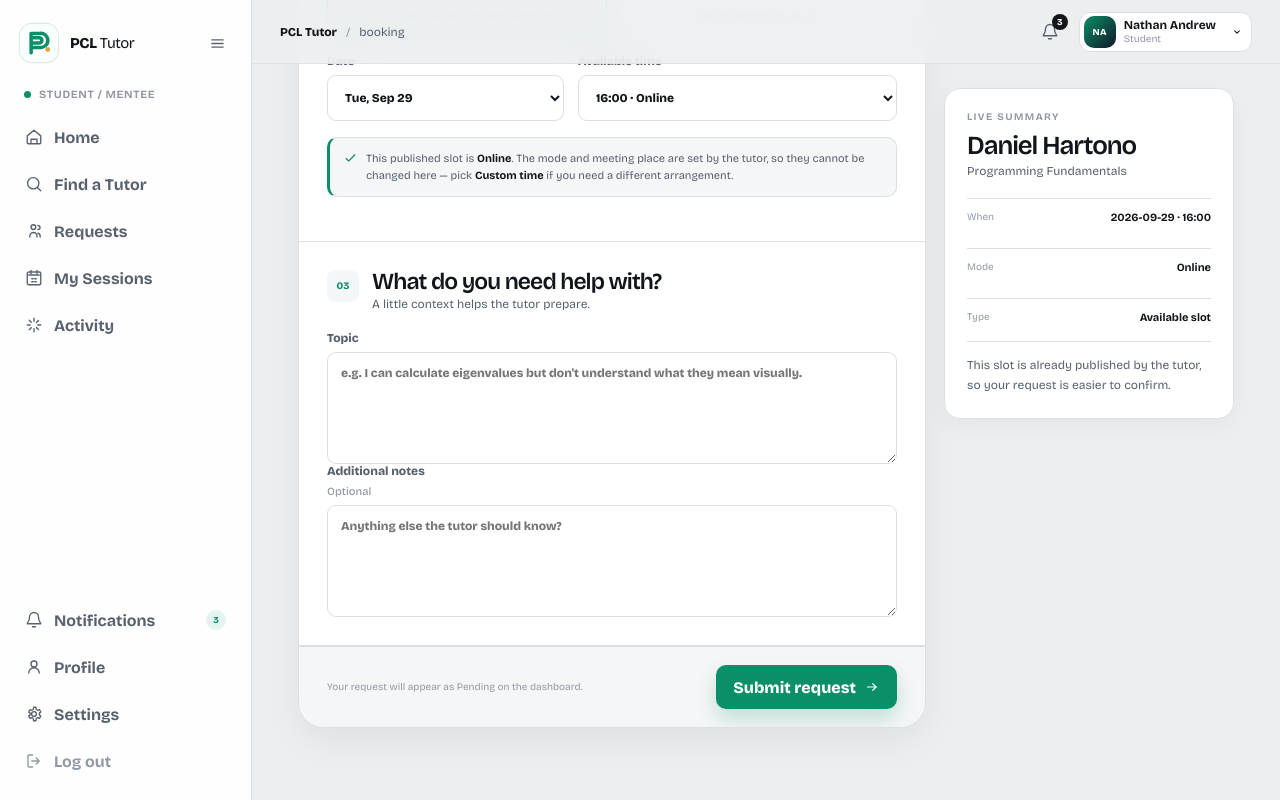
booking a published slot › lets the student edit the topic after cancelling the review
(page scrolled)
Step 1. Type "Wrong topic" into the text box labelled "Topic" → (612, 408), box [327,352,897,464]
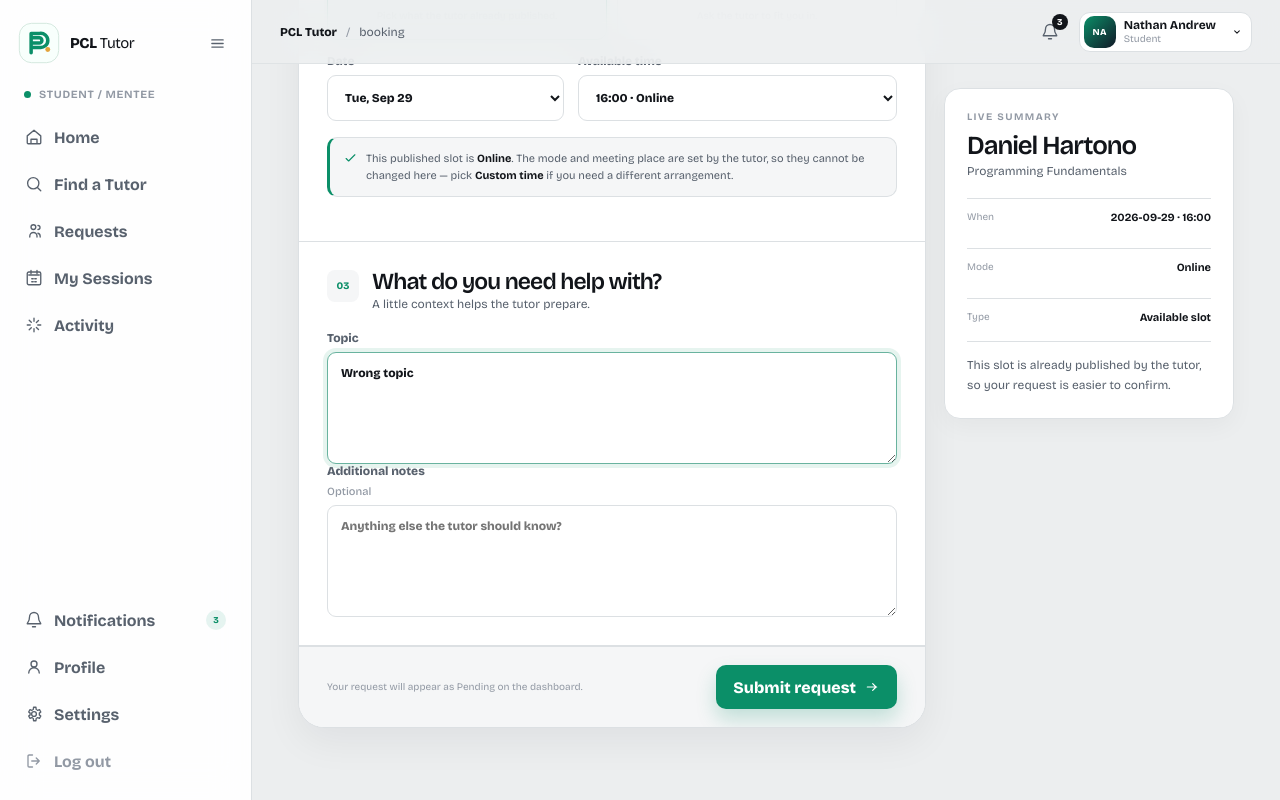
Step 2. Click the button "Submit request" → (807, 687), box [716,665,897,709]
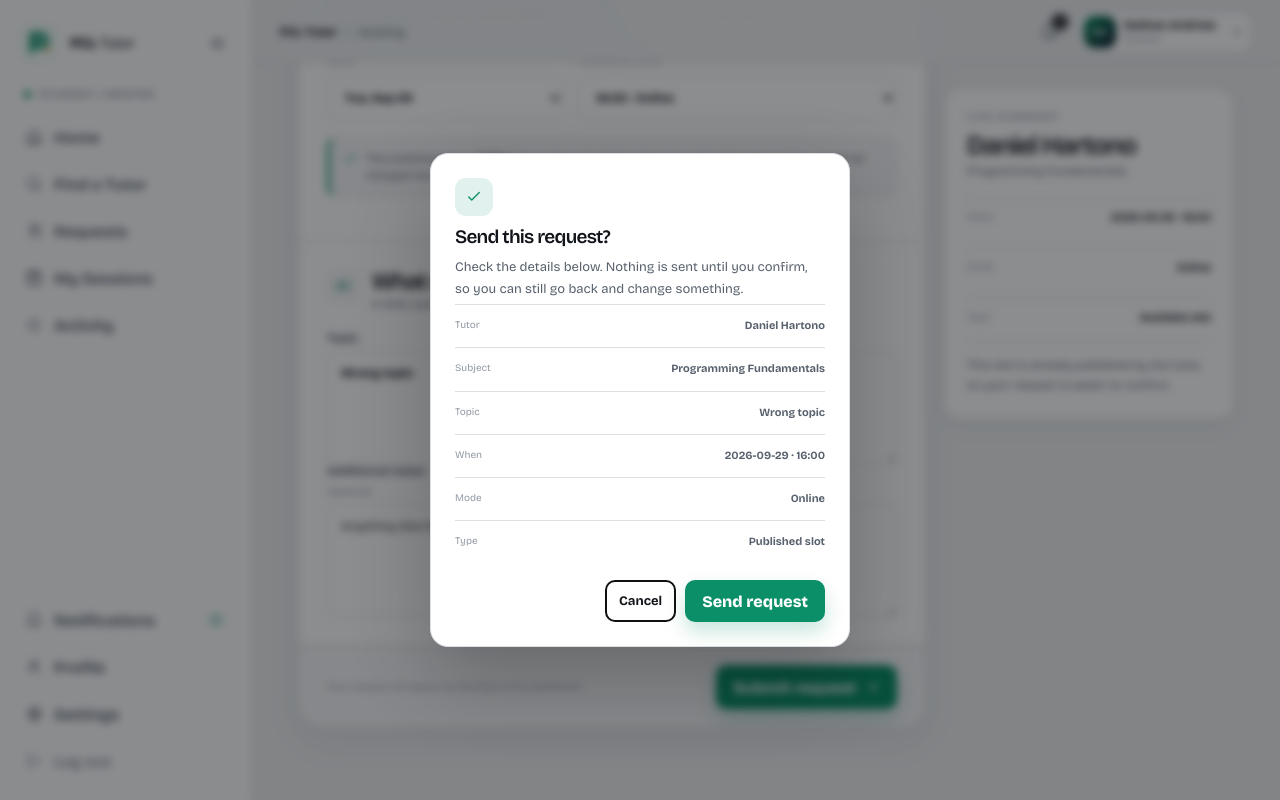
Step 3. Click the button "Cancel" → (641, 601), box [605,580,676,622]
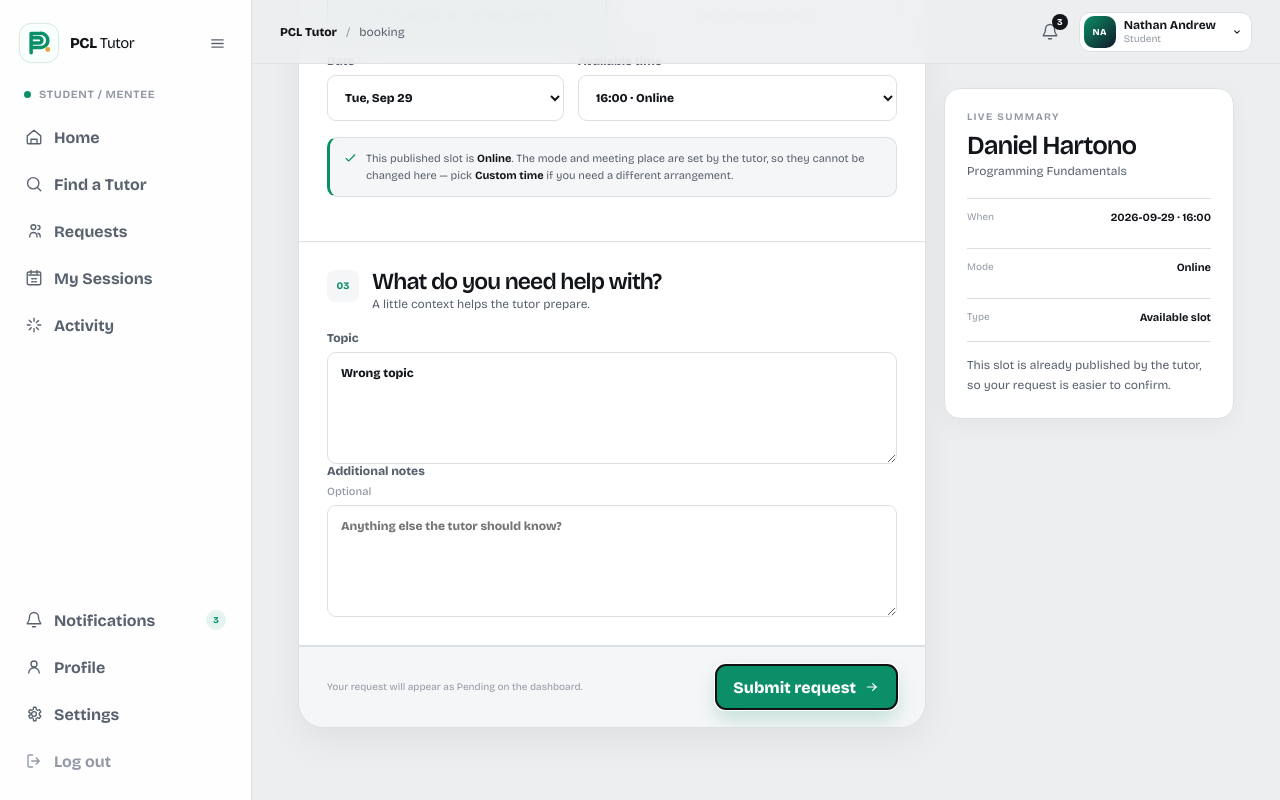
Step 4. Replace the text in the text box labelled "Topic" with "Corrected topic" → (612, 408), box [327,352,897,464]
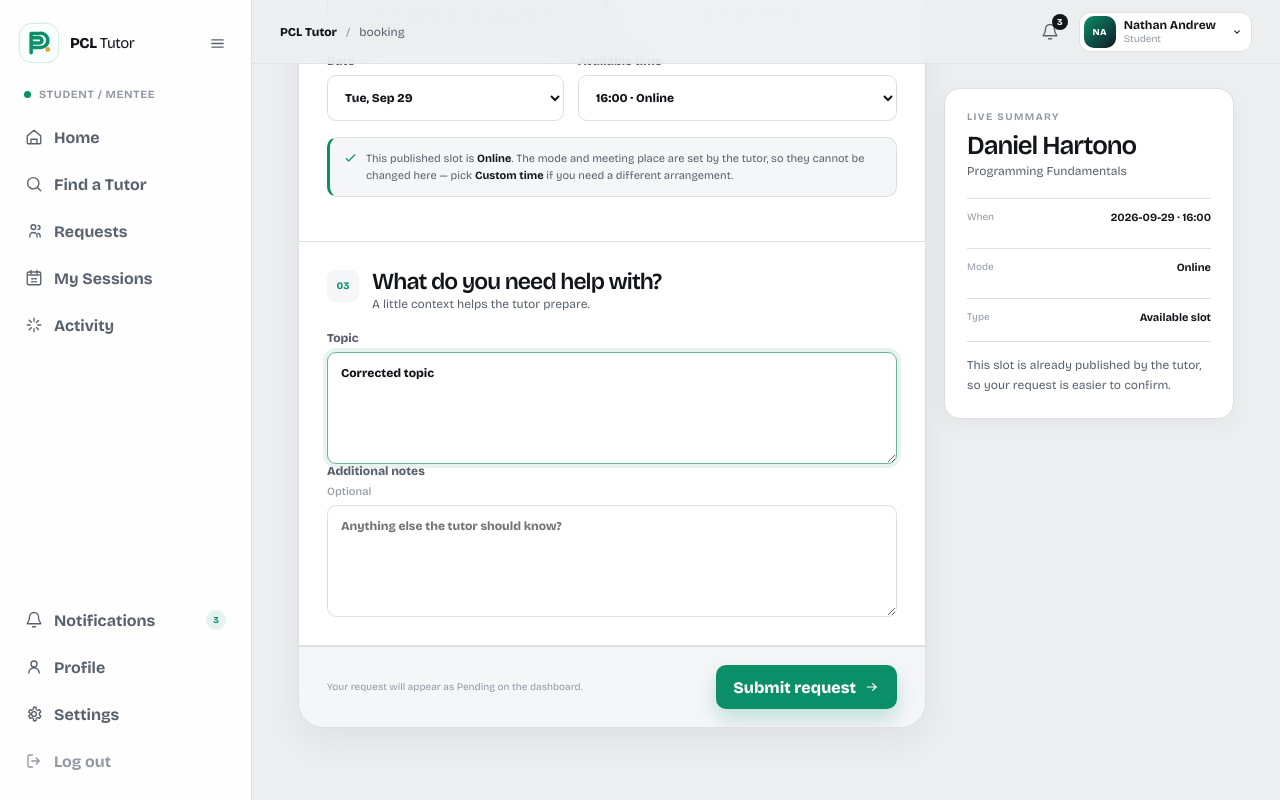
Step 5. Click the button "Submit request" → (807, 687), box [716,665,897,709]
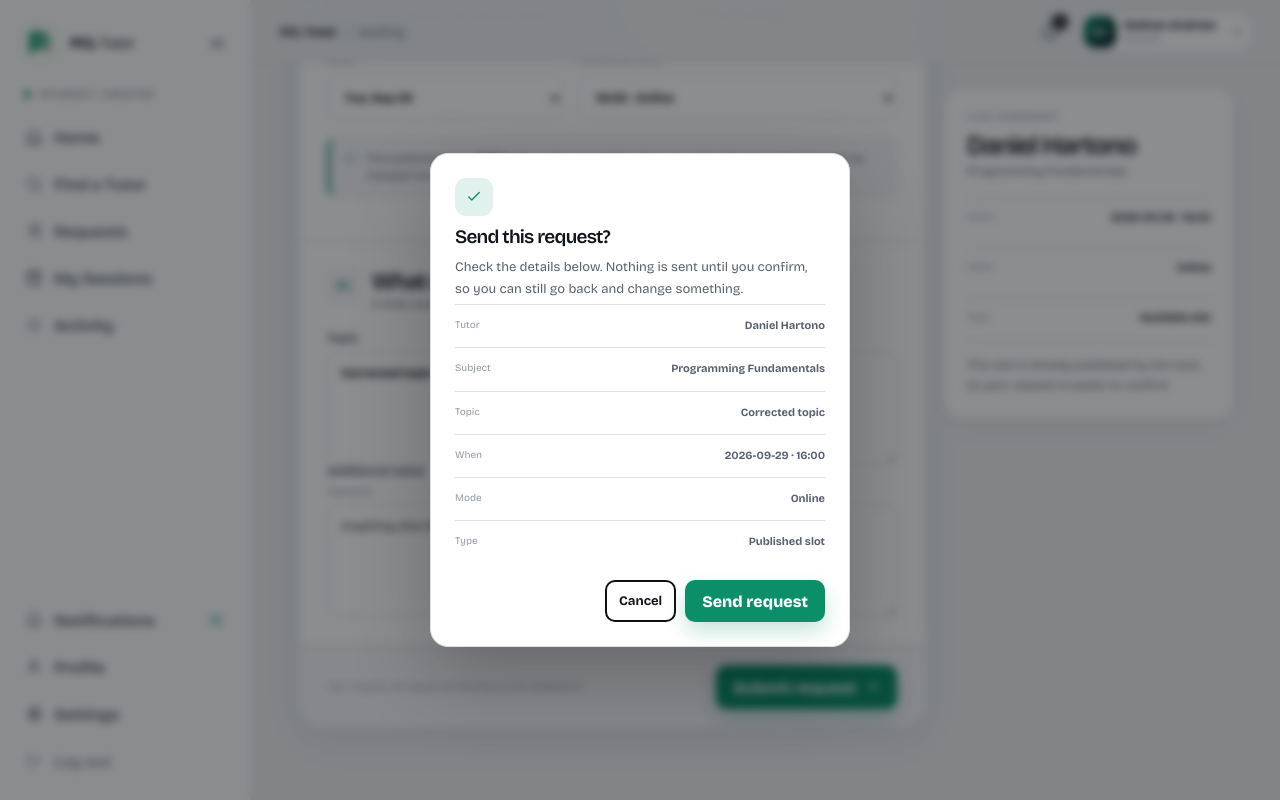
Expected: the dialog does not show "Wrong topic", [430,153,850,647]
Expected: the dialog shows "Corrected topic", [741,406,825,419]
